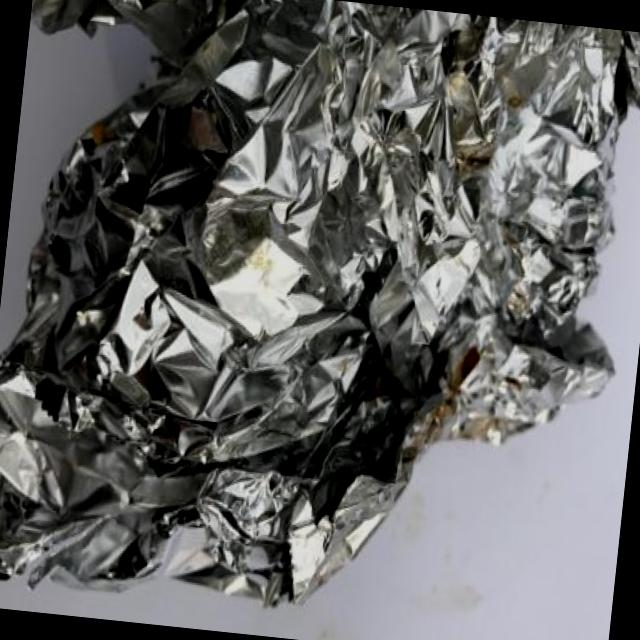kim_loai: (0, 0, 640, 606)
